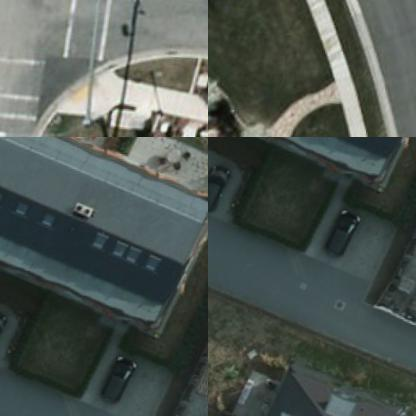car: (104, 359, 142, 410), (327, 212, 364, 263), (208, 164, 236, 223), (0, 310, 14, 368)
